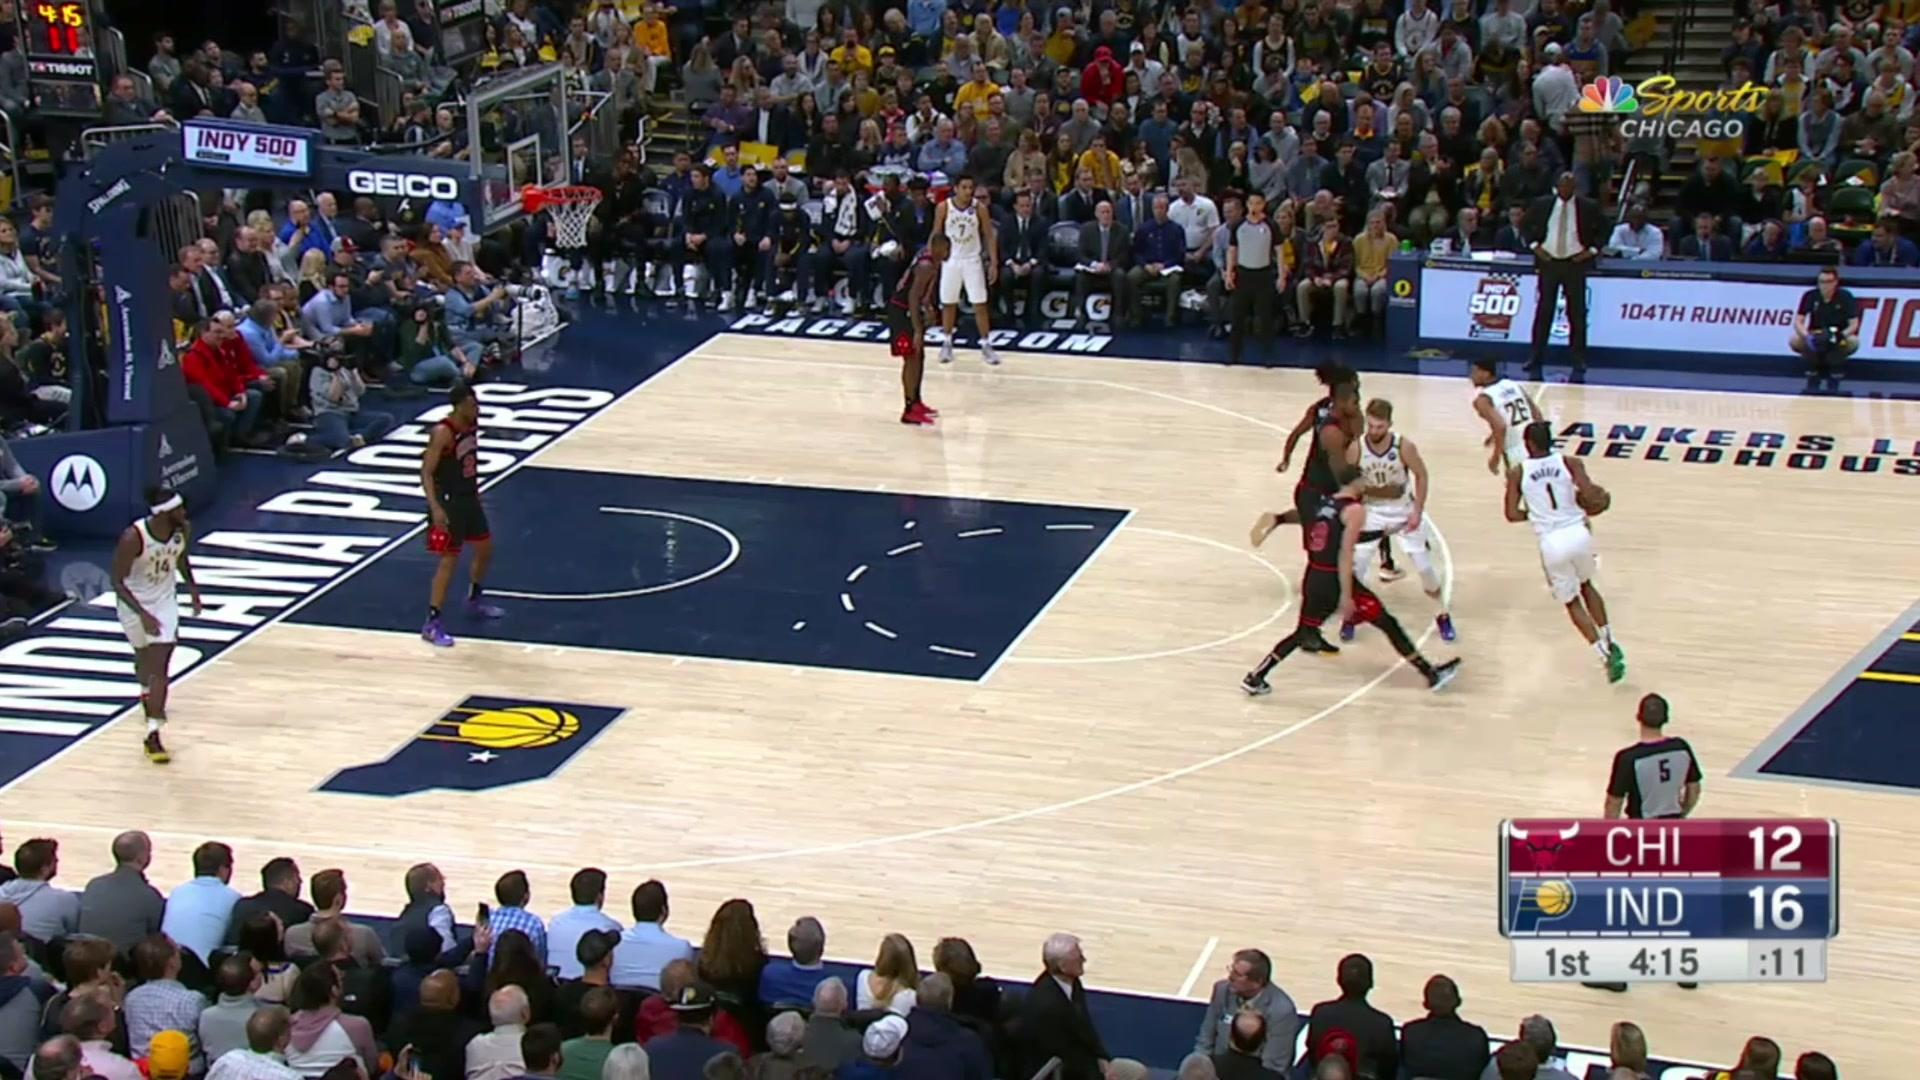no_foul: (1303, 371, 1440, 620)
